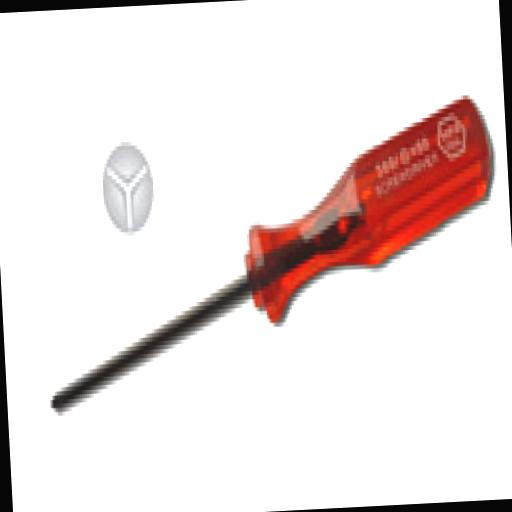screwdriver: (38, 93, 504, 416)
